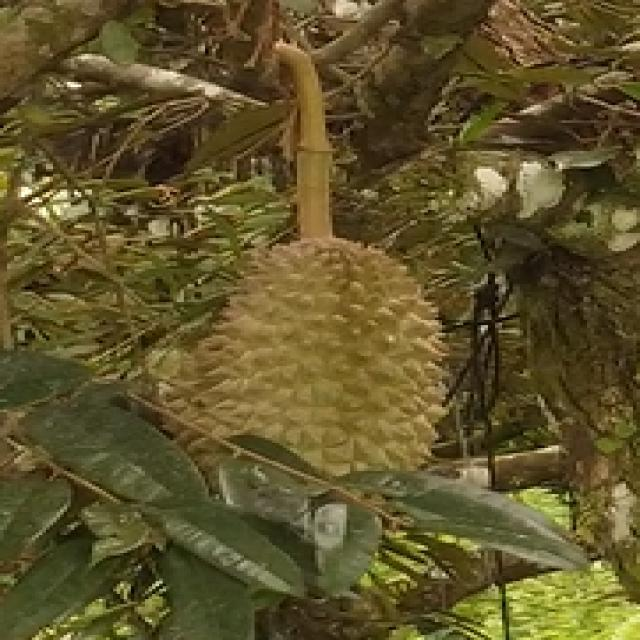mature: (177, 233, 449, 527)
